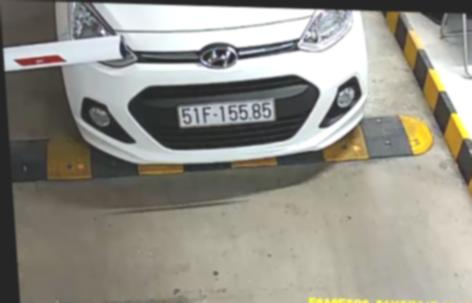License_Plate: (173, 97, 279, 131)
